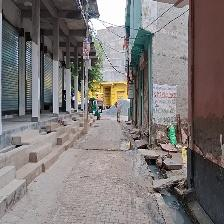Car: (86, 96, 102, 122)
Drain: (126, 119, 206, 223)
Human: (112, 98, 123, 126)
Road: (12, 118, 164, 223)
